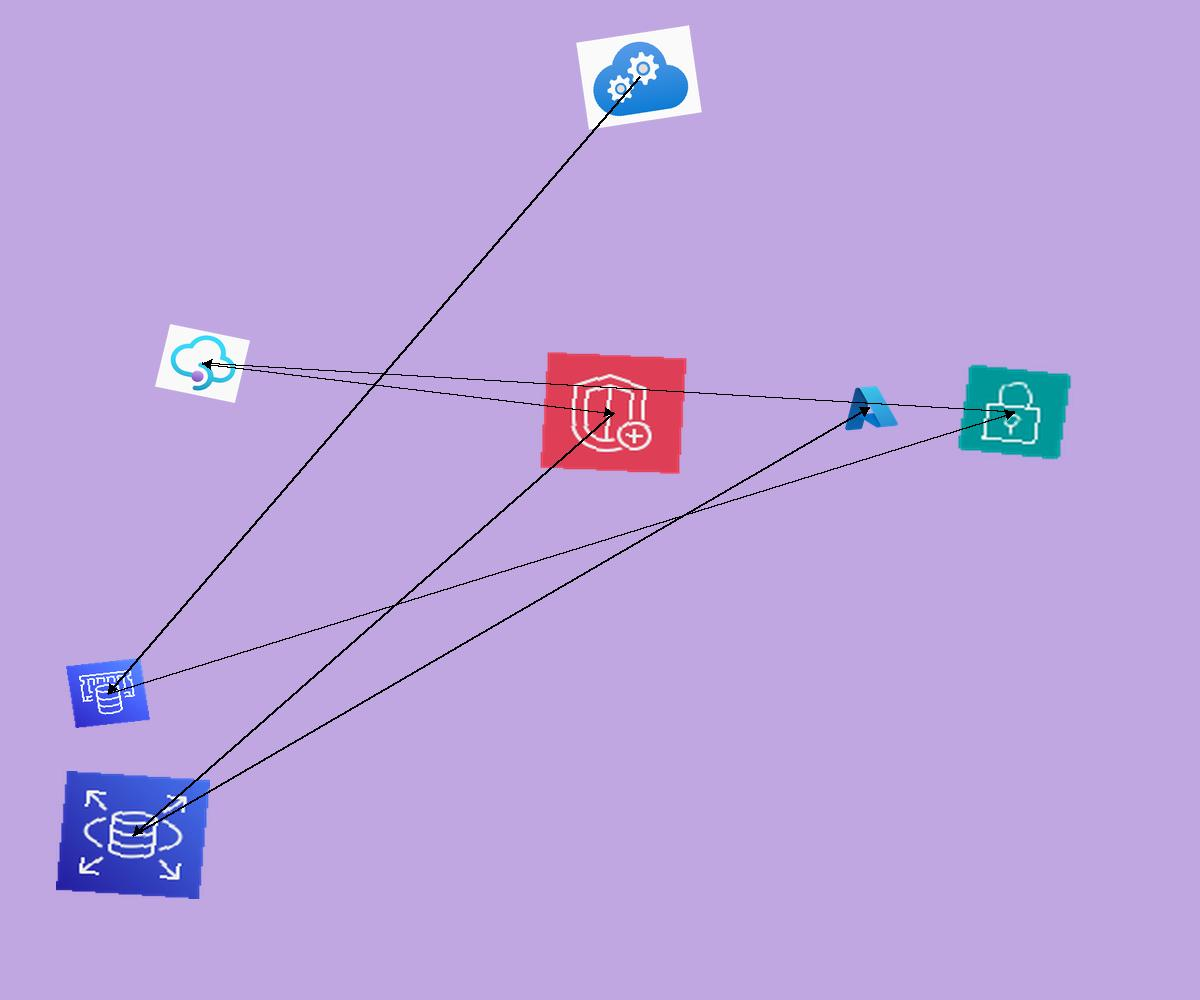AWS-ElastiCache: (66, 658, 150, 728)
AWS-Private-subnet: (956, 363, 1073, 461)
AWS-RDS: (56, 771, 210, 899)
AWS-Shield: (539, 351, 688, 475)
Azure_api_gateway: (155, 324, 250, 403)
Azure_cloud_services: (576, 25, 702, 130)
Azure_services: (837, 381, 901, 434)
